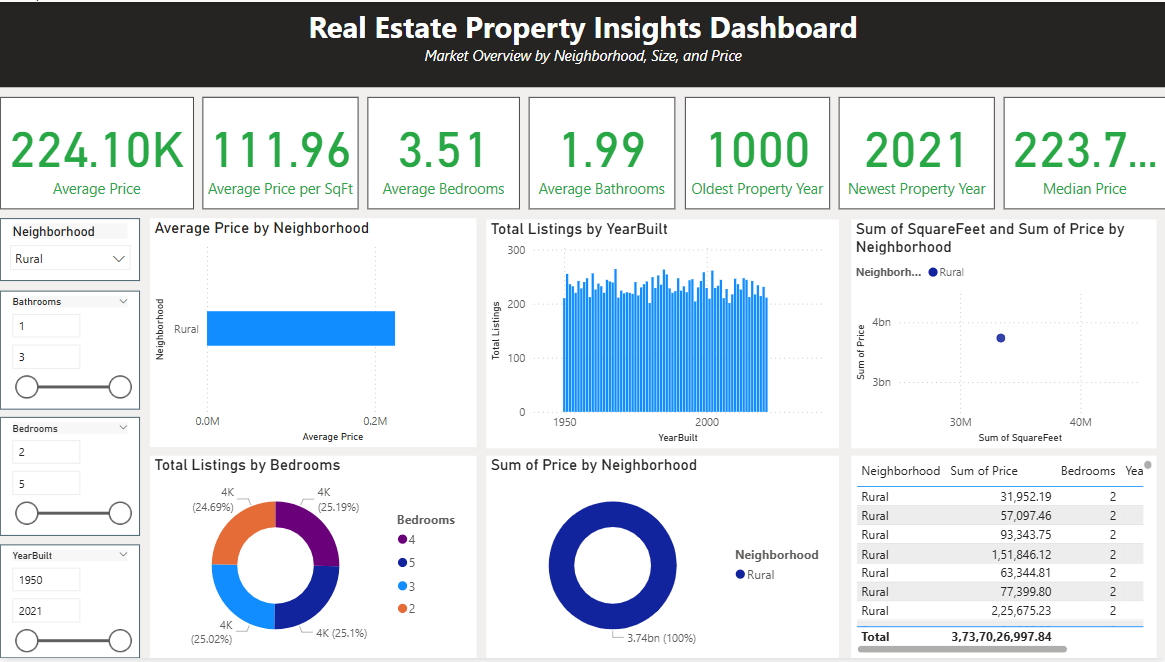

Layout of this report page (visuals, bound fields, positions):
{"tool":"powerbi","page":{"name":"Page 1","canvas":[1280,720],"ordinal":0},"visuals":[{"type":"textbox","box":[0,0,1280.3,93.3],"z":0},{"type":"card","fields":{"Values":["housing_price_dataset.Average Price"]},"box":[0,104.3,212.7,123.5],"z":1000},{"type":"card","fields":{"Values":["housing_price_dataset.Average Price per SqFt"]},"box":[222.3,104.3,171.5,123.5],"z":2000},{"type":"card","fields":{"Values":["housing_price_dataset.Average Bedrooms"]},"box":[403.4,104.3,167.4,123.5],"z":3000},{"type":"card","fields":{"Values":["housing_price_dataset.Average Bathrooms"]},"box":[580.4,104.3,160.5,123.5],"z":4000},{"type":"card","fields":{"Values":["housing_price_dataset.Oldest Property Year"]},"box":[752,104.3,159.2,123.5],"z":5000},{"type":"card","fields":{"Values":["housing_price_dataset.Newest Property Year"]},"box":[920.8,104.3,171.5,123.5],"z":6000},{"type":"card","fields":{"Values":["housing_price_dataset.Median Price"]},"box":[1101.9,104.3,178.4,123.5],"z":7000},{"type":"slicer","fields":{"Values":["housing_price_dataset.Neighborhood"]},"box":[0,237.4,153.7,68.6],"z":8000},{"type":"slicer","box":[0,317,153.7,130.4],"z":9000},{"type":"slicer","fields":{"Values":["housing_price_dataset.Bedrooms"]},"box":[0,455.6,153.7,130.4],"z":10000},{"type":"slicer","fields":{"Values":["housing_price_dataset.YearBuilt"]},"box":[0,595.5,153.7,124.9],"z":11000},{"type":"barChart","fields":{"Y":["housing_price_dataset.Average Price"],"Category":["housing_price_dataset.Neighborhood"]},"box":[164.7,237.4,358.1,251.1],"z":12000},{"type":"columnChart","fields":{"Category":["housing_price_dataset.YearBuilt"],"Y":["housing_price_dataset.Total Listings"]},"box":[533.8,238.8,387,251.1],"z":13000},{"type":"scatterChart","fields":{"X":["Sum(housing_price_dataset.SquareFeet)"],"Y":["Sum(housing_price_dataset.Price)"],"Series":["housing_price_dataset.Neighborhood"]},"box":[934.5,238.8,334.8,251.1],"z":14000},{"type":"donutChart","fields":{"Category":["housing_price_dataset.Bedrooms"],"Y":["housing_price_dataset.Total Listings"]},"box":[165,498,358,222],"z":15000},{"type":"donutChart","fields":{"Category":["housing_price_dataset.Neighborhood"],"Y":["Sum(housing_price_dataset.Price)"]},"box":[534,498,387,222],"z":16000},{"type":"tableEx","fields":{"Values":["housing_price_dataset.Neighborhood","Sum(housing_price_dataset.Price)","housing_price_dataset.Bedrooms","housing_price_dataset.YearBuilt","housing_price_dataset.SquareFeet"]},"box":[934,498,335,222],"z":17000}]}

Visuals, with their boxes in screenshot pixels (x1, y1, x2, y2), scaled from the page's 1280x720 canvas onto the 1165x662 screenshot:
textbox: bbox=[0, 0, 1164, 86]
card - housing_price_dataset.Average Price: bbox=[0, 96, 194, 209]
card - housing_price_dataset.Average Price per SqFt: bbox=[202, 96, 358, 209]
card - housing_price_dataset.Average Bedrooms: bbox=[367, 96, 520, 209]
card - housing_price_dataset.Average Bathrooms: bbox=[528, 96, 674, 209]
card - housing_price_dataset.Oldest Property Year: bbox=[684, 96, 829, 209]
card - housing_price_dataset.Newest Property Year: bbox=[838, 96, 994, 209]
card - housing_price_dataset.Median Price: bbox=[1003, 96, 1164, 209]
slicer - housing_price_dataset.Neighborhood: bbox=[0, 218, 140, 281]
slicer: bbox=[0, 291, 140, 411]
slicer - housing_price_dataset.Bedrooms: bbox=[0, 419, 140, 539]
slicer - housing_price_dataset.YearBuilt: bbox=[0, 548, 140, 661]
barChart - housing_price_dataset.Average Price x housing_price_dataset.Neighborhood: bbox=[150, 218, 476, 449]
columnChart - housing_price_dataset.YearBuilt x housing_price_dataset.Total Listings: bbox=[486, 220, 838, 450]
scatterChart - Sum(housing_price_dataset.SquareFeet) x Sum(housing_price_dataset.Price): bbox=[851, 220, 1155, 450]
donutChart - housing_price_dataset.Bedrooms x housing_price_dataset.Total Listings: bbox=[150, 458, 476, 661]
donutChart - housing_price_dataset.Neighborhood x Sum(housing_price_dataset.Price): bbox=[486, 458, 838, 661]
tableEx - housing_price_dataset.Neighborhood x Sum(housing_price_dataset.Price): bbox=[850, 458, 1155, 661]
